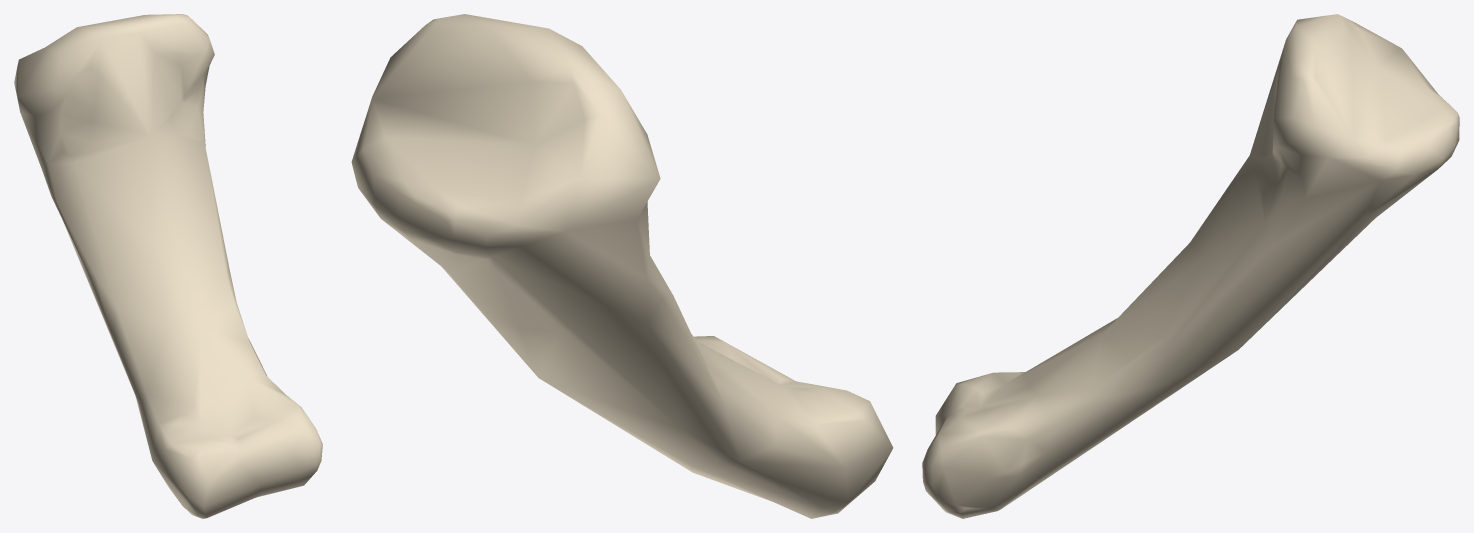
File: middle-phalanx-of-fourth-finger-of-hand-r.glb
3 views of the same model, side by side, from view 1: azimuth 30°, elevation 25°; view 2: azimuth 150°, elevation 25°; view 3: azimuth 270°, elevation 25° (orthographic). The views are drawn at different scales.
Parts seen in each view (by area): view 1: Middle phalanx of fourth finger of hand.r; view 2: Middle phalanx of fourth finger of hand.r; view 3: Middle phalanx of fourth finger of hand.r.
Boxes of the visible parts, bbox=[...] form: Middle phalanx of fourth finger of hand.r: bbox=[14, 14, 322, 518]; Middle phalanx of fourth finger of hand.r: bbox=[351, 14, 893, 518]; Middle phalanx of fourth finger of hand.r: bbox=[922, 14, 1459, 518].
Size of the model in its own units: 0.0126 by 0.0248 by 0.0251.
